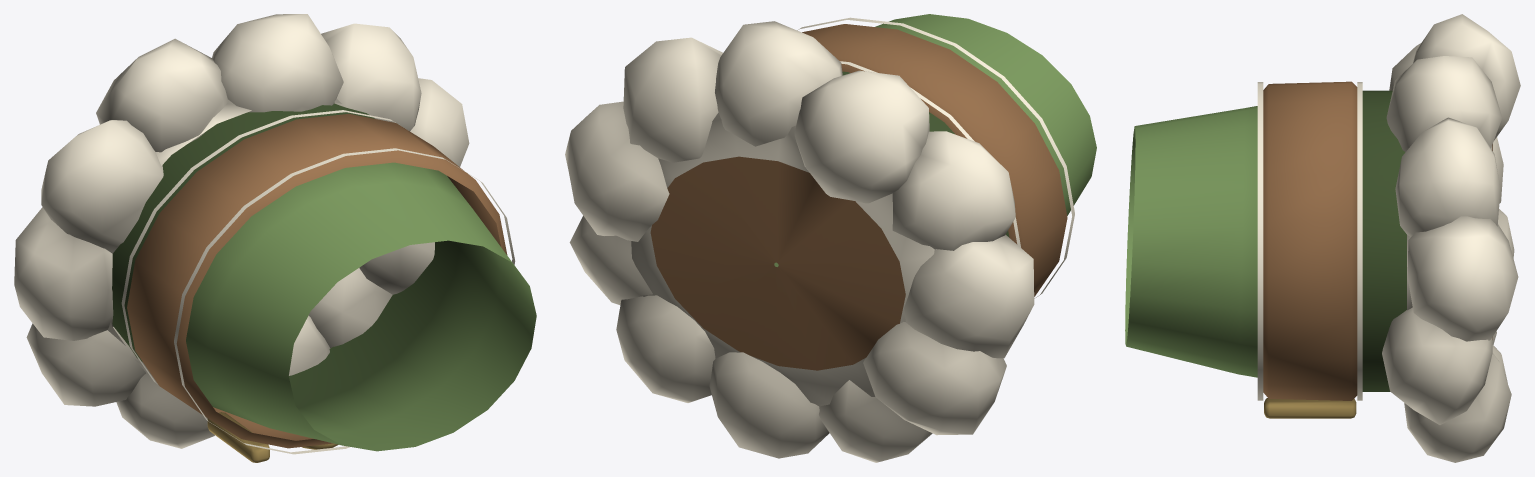
File: EDV2_GloveCuff.fbx
3 views of the same model, side by side, from view 1: azimuth 30°, elevation 25°; view 2: azimuth 150°, elevation 25°; view 3: azimuth 270°, elevation 25° (orthographic). The views are drawn at different scales.
Parts seen in each view (by area): view 1: Sleeve, Trim, Strap, Hardware.004; view 2: Trim, Strap, Sleeve; view 3: Trim, Sleeve, Strap, Hardware.004.
Part boxes in pixels (x1,y1,x2,y2): Sleeve: (112, 103, 536, 451); Trim: (14, 14, 515, 454); Strap: (127, 114, 507, 448); Hardware.004: (207, 412, 338, 462); Trim: (565, 17, 1074, 462); Strap: (802, 24, 1067, 296); Sleeve: (774, 14, 1096, 266); Trim: (1257, 14, 1520, 462); Sleeve: (1125, 90, 1406, 391); Strap: (1263, 81, 1357, 400); Hardware.004: (1264, 398, 1356, 418).
Size of the model in its own units: 0.109 by 0.094 by 0.0858.
